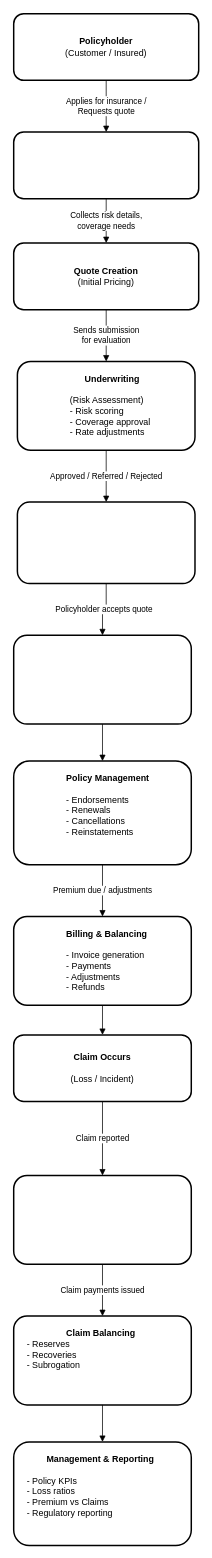
This 212x1558 diagram has some shape labels left out. The shapes that lost their labels are listed below. From the top down, each one's centre as x and y in pixels, then its label:
the point at 106,165: Agent (Sales & Relationship)
the point at 105,542: Quote Finalization - Final premium - Terms & conditions
the point at 102,679: Bind Policy (Policy Inception) - Policy number created - Coverage activated
the point at 102,1219: Claims Processing - FNOL - Adjuster assignment - Investigation - Settlement
